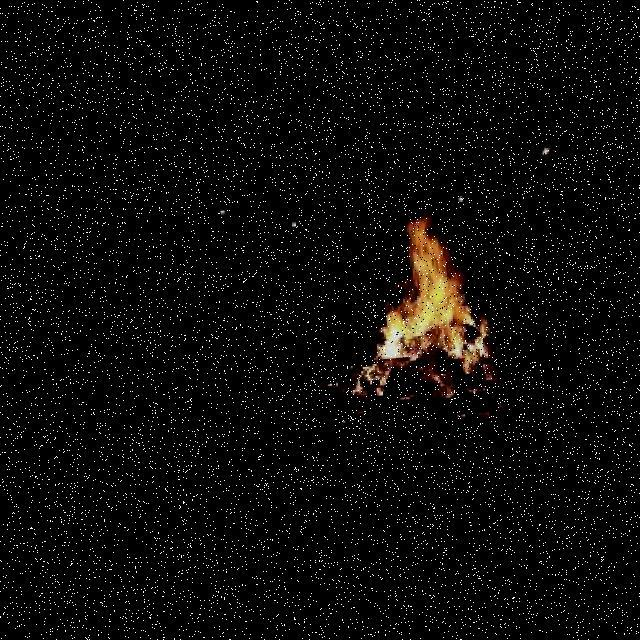Fire: (340, 208, 500, 410)
